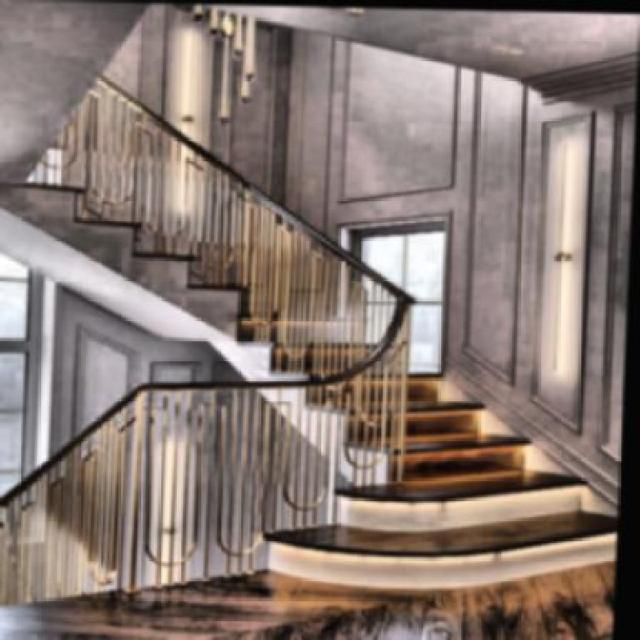stair: (280, 337, 597, 518)
